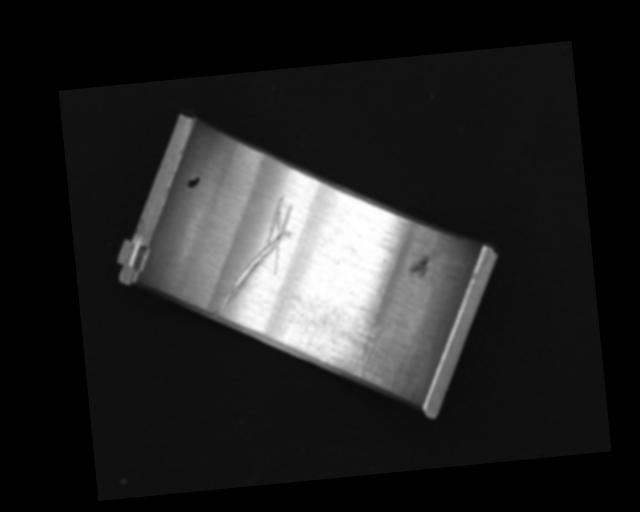blot: (185, 174, 201, 189)
bruise: (408, 255, 432, 278)
nick: (203, 192, 305, 315)
scratch: (296, 302, 397, 396)
